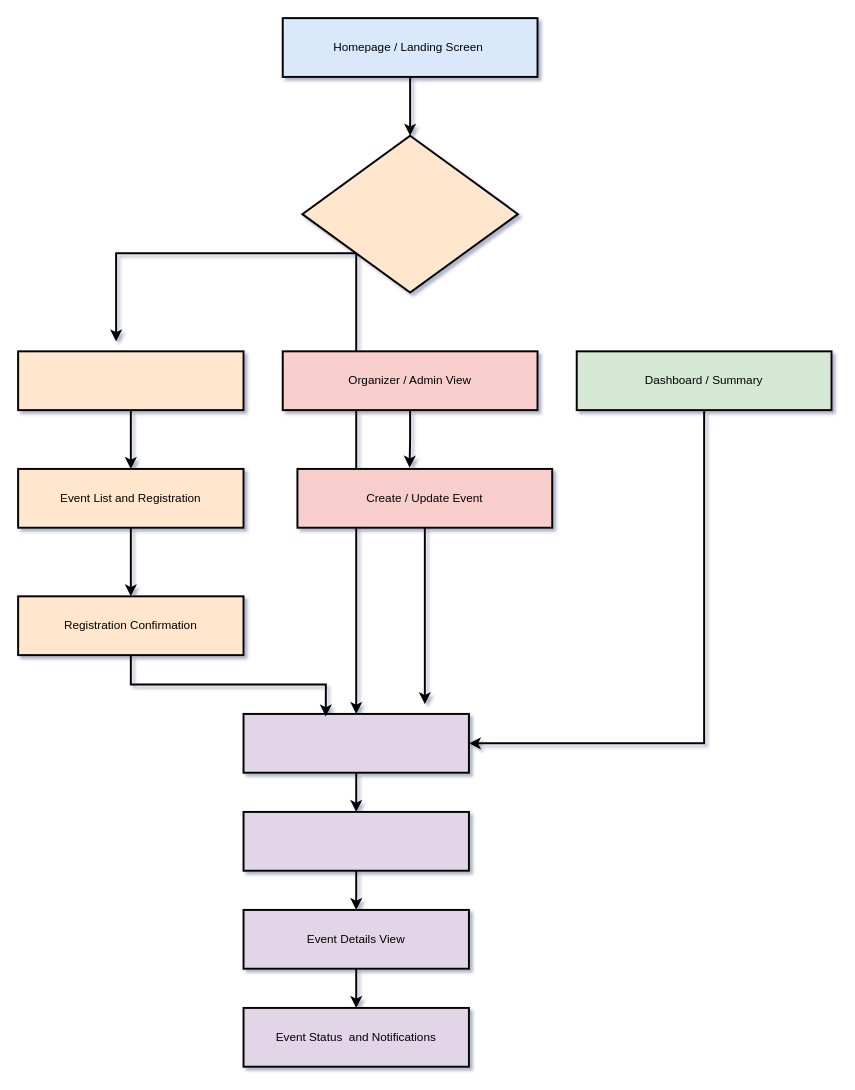
Image size: 855x1090. Some labels were removed from this diagram. The shapes that lost their labels are listed below. From the top down, each one's centre as x and y in pixels, then its label:
(409,213): What Does the User Need?
(130,380): Browse / Register for Events
(355,742): Events / Information List
(355,840): Search / Filter Events
